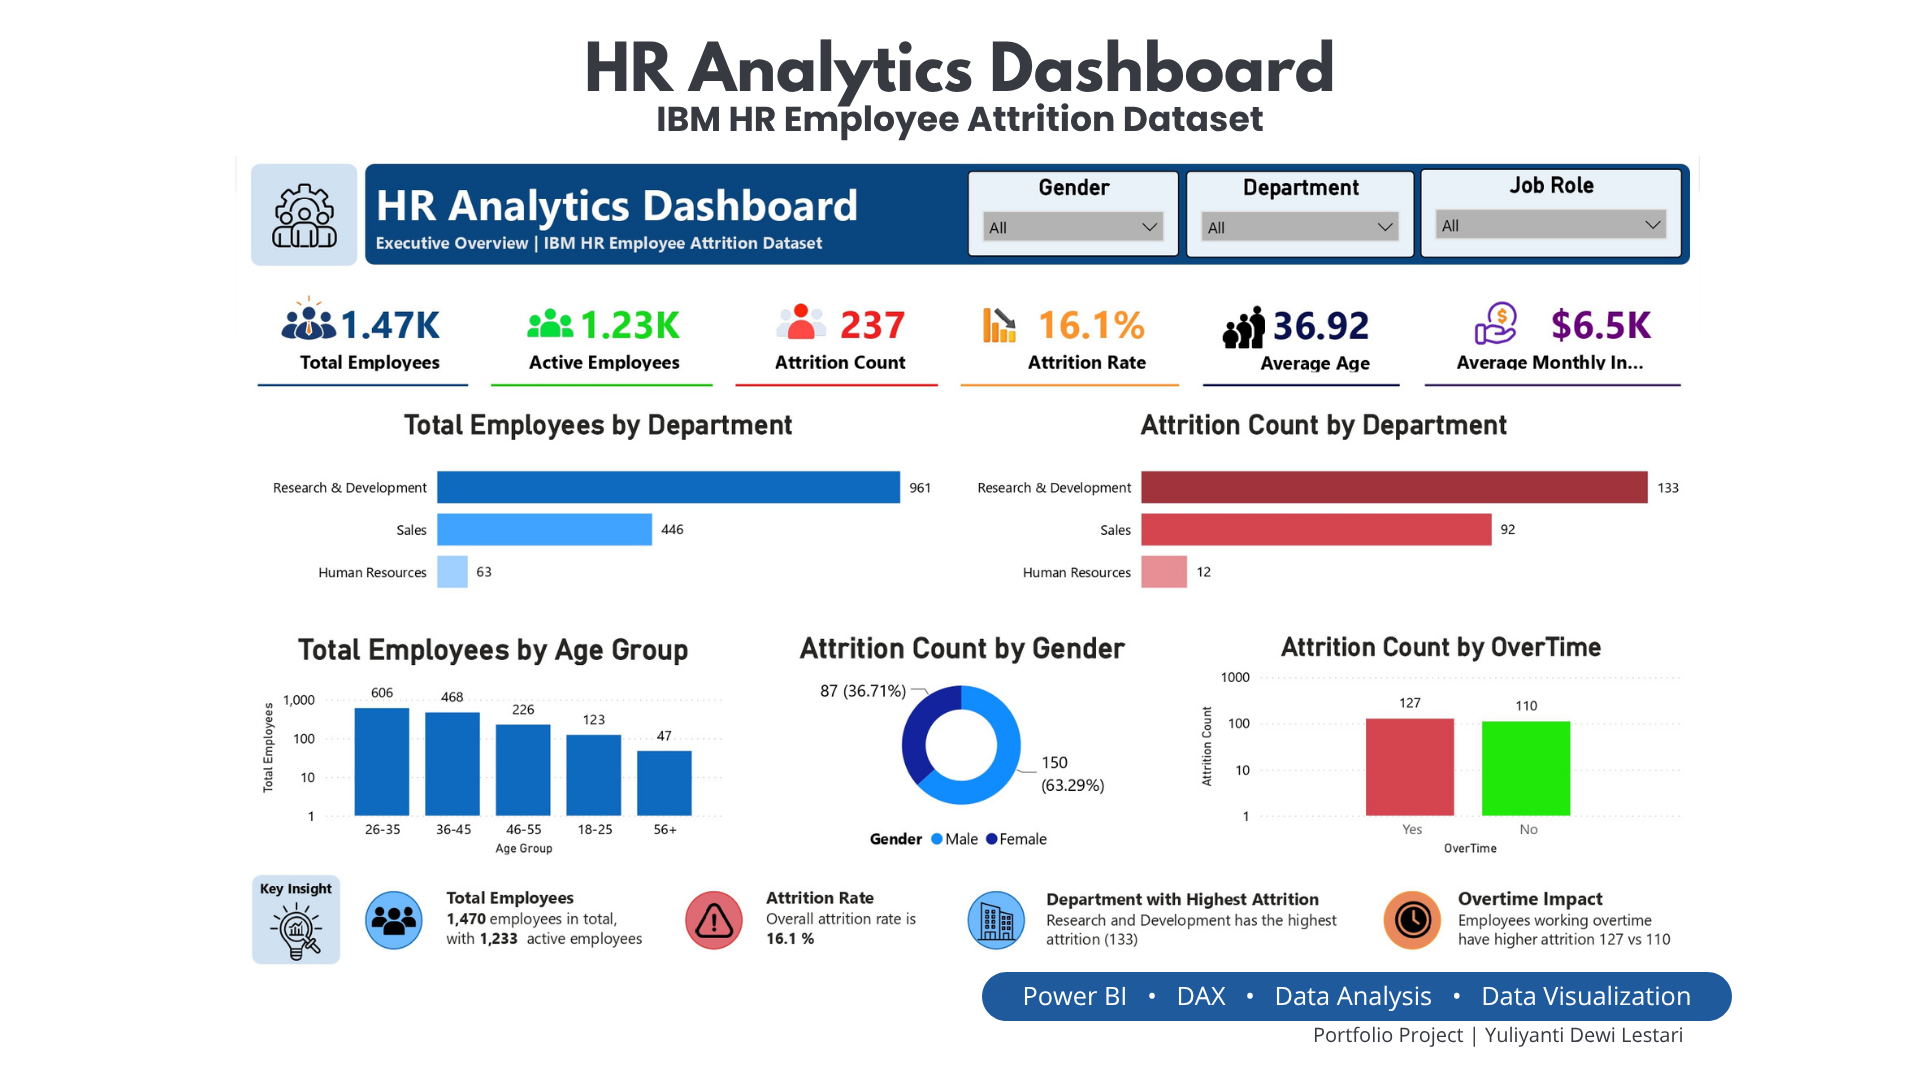

Layout of this report page (visuals, bound fields, positions):
{"tool":"powerbi","page":{"name":"Page 1","canvas":[1280,720],"ordinal":0},"visuals":[{"type":"textbox","box":[112.6,10.5,1159.9,87.7],"z":0},{"type":"cardVisual","title":"Total Employes","fields":{"Data":["Employee.Total Employees"]},"box":[13.6,106.8,197.3,105.5],"z":1000},{"type":"cardVisual","title":"Active Employees","fields":{"Data":["Employee.Active Employees"]},"box":[218.9,106.7,202.2,105.6],"z":2000},{"type":"cardVisual","title":"Attrition Count","fields":{"Data":["Employee.Attrition Count"]},"box":[433.6,106.8,185.5,105.5],"z":3000},{"type":"cardVisual","title":"Attrition Rate","fields":{"Data":["Employee.Attrition Rate"]},"box":[630,106.8,200,105.5],"z":4000},{"type":"cardVisual","title":"Average Age ","fields":{"Data":["Employee.Average Age"]},"box":[838,107,187,106],"z":5000},{"type":"cardVisual","title":"Avg Monthly Income","fields":{"Data":["Employee.Average Monthly Income"]},"box":[1026.5,108.2,244.9,104.1],"z":6000},{"type":"clusteredBarChart","fields":{"Category":["Employee.Department"],"Y":["Employee.Total Employees"]},"box":[13.8,220,603.8,186.2],"z":7000},{"type":"clusteredBarChart","fields":{"Category":["Employee.Department"],"Y":["Employee.Attrition Count"]},"box":[630,220,641.8,186.4],"z":8000},{"type":"donutChart","fields":{"Category":["Employee.Gender"],"Y":["Employee.Attrition Count"]},"box":[442.5,413.8,383.8,208.8],"z":9000},{"type":"columnChart","fields":{"Category":["Employee.OverTime"],"Y":["Employee.Attrition Count"]},"box":[835.5,414.5,436.4,208.2],"z":10000},{"type":"clusteredColumnChart","fields":{"Category":["Employee.Age Group"],"Y":["Employee.Total Employees"]},"box":[13.8,415,420,207.5],"z":11000},{"type":"slicer","title":"Gender","fields":{"Values":["Employee.Gender"]},"box":[640,16,185,75],"z":12000},{"type":"slicer","title":"Job Role","fields":{"Values":["Employee.JobRole"]},"box":[1036.4,13.6,228.2,78.2],"z":13000},{"type":"slicer","title":"Department","fields":{"Values":["Employee.Department"]},"box":[830.9,16.4,200,75.5],"z":14000},{"type":"image","box":[18.6,110.7,51.4,62.1],"z":15000},{"type":"image","box":[232.9,122.9,41.4,50],"z":16000},{"type":"image","box":[452,125,43,48],"z":17000},{"type":"image","box":[648.6,131.4,38.6,40],"z":18000},{"type":"image","box":[862.9,131.4,37.1,41.4],"z":19000},{"type":"image","box":[1068.2,129.1,66.4,40],"z":20000},{"type":"textbox","box":[13.1,10.5,92.9,89],"z":21000},{"type":"image","box":[13.8,25,92.5,60],"z":22000},{"type":"textbox","box":[13.6,631.8,77.3,78.2],"z":23000},{"type":"textbox","box":[95.5,631.8,275.5,78.2],"z":24000},{"type":"textbox","box":[374.5,631.8,240,78.2],"z":25000},{"type":"textbox","box":[620,631.8,354.5,78.2],"z":26000},{"type":"textbox","box":[980,631.8,291.8,79.1],"z":27000},{"type":"image","title":"Key Insight","box":[15.5,634.5,74.5,72.7],"z":28000},{"type":"shape","box":[112.7,646.4,50,50.9],"z":29000},{"type":"shape","box":[392.7,646.4,50,50.9],"z":30000},{"type":"shape","box":[640,646.4,50,50.9],"z":31000},{"type":"shape","box":[1003.6,646.4,50,50.9],"z":32000},{"type":"image","box":[118,640,40,64],"z":33000},{"type":"image","box":[648.2,656.4,34.5,32.7],"z":34000},{"type":"image","box":[401.8,651.8,32.7,39.1],"z":35000},{"type":"image","box":[1012.9,651.4,34.3,40],"z":36000},{"type":"shape","box":[18.6,164.3,184.3,78.6],"z":37000},{"type":"shape","box":[223,164,194,79],"z":38000},{"type":"shape","box":[437,164,177,79],"z":39000},{"type":"shape","box":[634,164,191,79],"z":40000},{"type":"shape","box":[845.7,164.3,172,78.6],"z":41000},{"type":"shape","box":[1040,164.3,224.3,78.6],"z":42000}]}

Visuals, with their boxes in screenshot pixels (x1, y1, x2, y2), scaled from the page's 1280x720 canvas onto the 1920x1080 screenshot:
textbox: (169, 16, 1909, 147)
"Total Employes" cardVisual: (20, 160, 316, 318)
"Active Employees" cardVisual: (328, 160, 632, 318)
"Attrition Count" cardVisual: (650, 160, 929, 318)
"Attrition Rate" cardVisual: (945, 160, 1245, 318)
"Average Age " cardVisual: (1257, 160, 1538, 320)
"Avg Monthly Income" cardVisual: (1540, 162, 1907, 318)
clusteredBarChart - Employee.Department x Employee.Total Employees: (21, 330, 926, 609)
clusteredBarChart - Employee.Department x Employee.Attrition Count: (945, 330, 1908, 610)
donutChart - Employee.Gender x Employee.Attrition Count: (664, 621, 1239, 934)
columnChart - Employee.OverTime x Employee.Attrition Count: (1253, 622, 1908, 934)
clusteredColumnChart - Employee.Age Group x Employee.Total Employees: (21, 622, 651, 934)
"Gender" slicer: (960, 24, 1238, 136)
"Job Role" slicer: (1555, 20, 1897, 138)
"Department" slicer: (1246, 25, 1546, 138)
image: (28, 166, 105, 259)
image: (349, 184, 411, 259)
image: (678, 188, 742, 260)
image: (973, 197, 1031, 257)
image: (1294, 197, 1350, 259)
image: (1602, 194, 1702, 254)
textbox: (20, 16, 159, 149)
image: (21, 38, 159, 128)
textbox: (20, 948, 136, 1065)
textbox: (143, 948, 556, 1065)
textbox: (562, 948, 922, 1065)
textbox: (930, 948, 1462, 1065)
textbox: (1470, 948, 1908, 1066)
"Key Insight" image: (23, 952, 135, 1061)
shape: (169, 970, 244, 1046)
shape: (589, 970, 664, 1046)
shape: (960, 970, 1035, 1046)
shape: (1505, 970, 1580, 1046)
image: (177, 960, 237, 1056)
image: (972, 985, 1024, 1034)
image: (603, 978, 652, 1036)
image: (1519, 977, 1571, 1037)
shape: (28, 246, 304, 364)
shape: (334, 246, 626, 364)
shape: (656, 246, 921, 364)
shape: (951, 246, 1238, 364)
shape: (1269, 246, 1527, 364)
shape: (1560, 246, 1896, 364)
